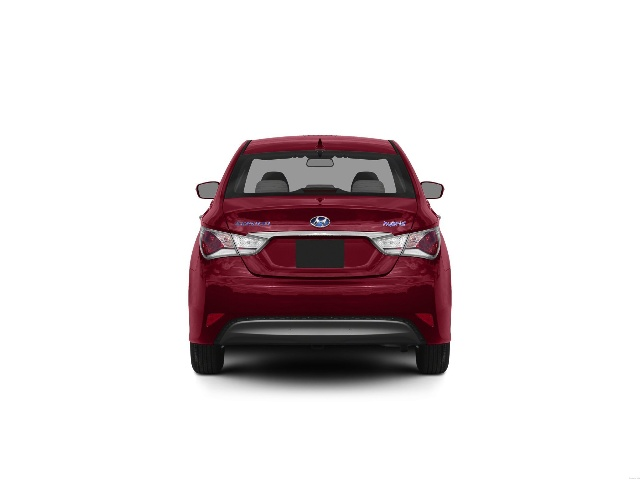Xe_hoi: (182, 132, 465, 381)
